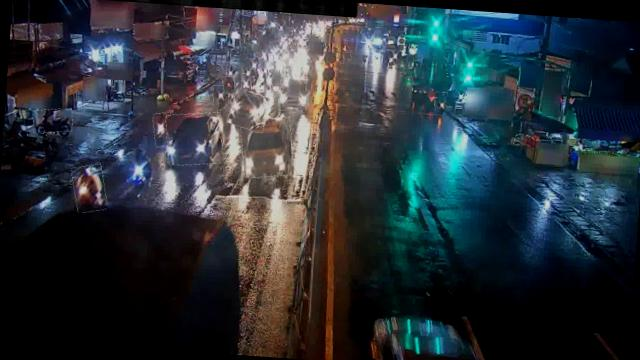Bike: (70, 163, 108, 213), (32, 106, 74, 134), (126, 146, 151, 184), (152, 112, 174, 146), (212, 84, 225, 106), (222, 75, 236, 94), (434, 92, 448, 110), (240, 73, 250, 90), (226, 63, 235, 76)
Car: (238, 114, 294, 180), (163, 110, 224, 166), (227, 90, 270, 132), (278, 76, 310, 112)
